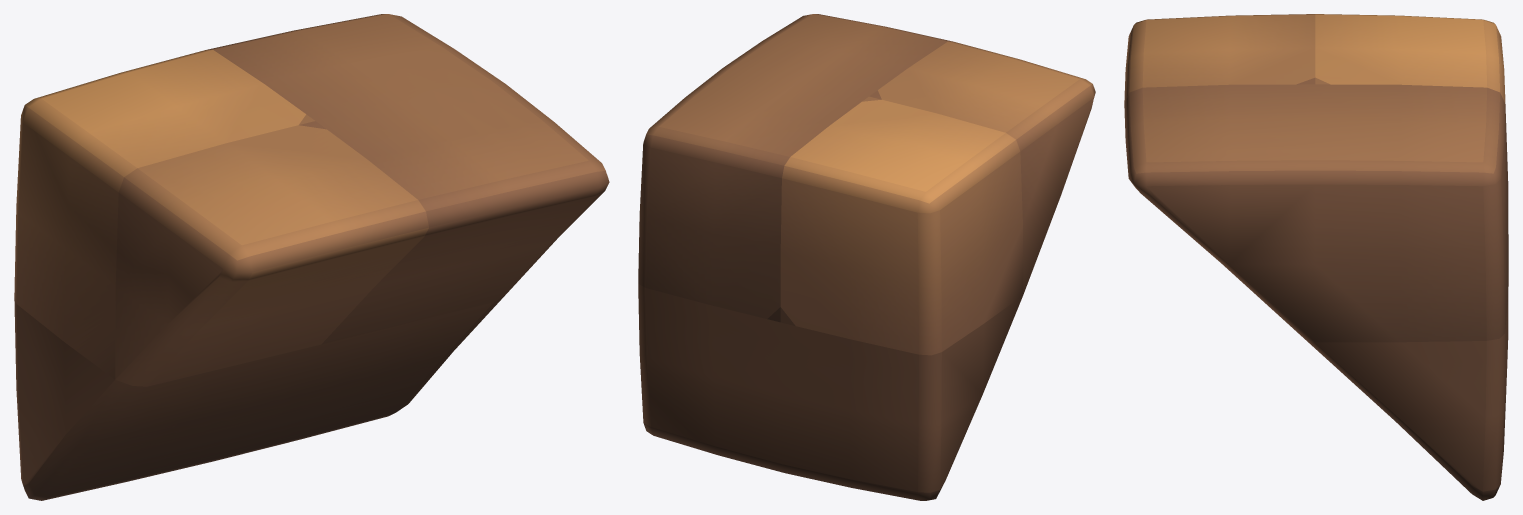
Rendered from Clay_2x2_SlopeUnder.fbx.
The picture shows the model from 3 angles, left to right: view 1: azimuth 30°, elevation 25°; view 2: azimuth 150°, elevation 25°; view 3: azimuth 270°, elevation 25°; orthographic projection. The views are drawn at different scales.
Visible parts, largest first — view 1: Clay_2x2_SlopeUnder_LOD0; view 2: Clay_2x2_SlopeUnder_LOD0; view 3: Clay_2x2_SlopeUnder_LOD0.
Boxes of the visible parts, x1,y1,x2,y2 form: Clay_2x2_SlopeUnder_LOD0: (14, 14, 609, 500); Clay_2x2_SlopeUnder_LOD0: (638, 14, 1095, 500); Clay_2x2_SlopeUnder_LOD0: (1124, 14, 1508, 500).
Size of what is drawn, in the model's own units: 1.09 by 1.08 by 1.08.
